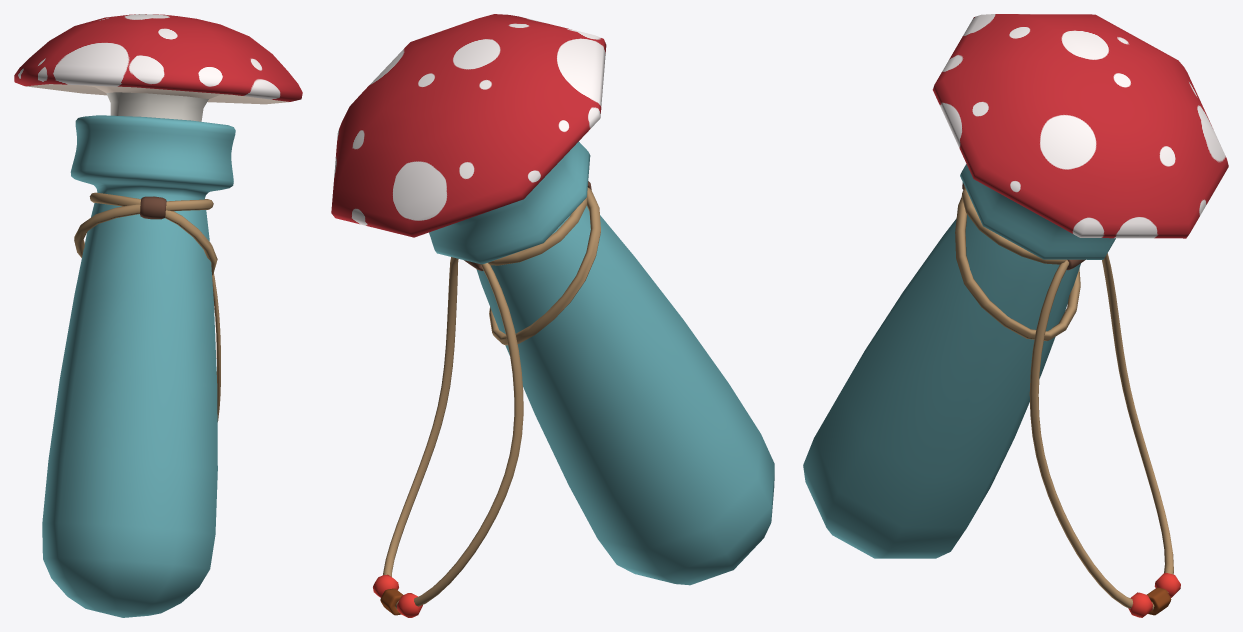
The model's file is pocao_de_invisibilidade.glb.
3 views of the same model, side by side, from view 1: azimuth 30°, elevation 25°; view 2: azimuth 150°, elevation 25°; view 3: azimuth 270°, elevation 25° (orthographic). The views are drawn at different scales.
Visible parts, largest first — view 1: Cube, Cube.007, Cube.002, Cube.001, Cube.008, BezierCircle, Cube.004; view 2: Cube, Cube.007, BezierCircle, Cube.002; view 3: Cube, Cube.007, BezierCircle, Cube.002.
Part boxes in pixels (box(x1,y1,x2,y2)): Cube: box(42, 115, 235, 617); Cube.007: box(14, 14, 302, 101); Cube.002: box(74, 192, 217, 275); Cube.001: box(106, 92, 208, 121); Cube.008: box(26, 84, 288, 104); BezierCircle: box(212, 273, 220, 421); Cube.004: box(140, 196, 166, 219); Cube: box(429, 141, 774, 585); Cube.007: box(331, 14, 606, 237); BezierCircle: box(383, 257, 523, 609); Cube.002: box(488, 187, 600, 345); Cube: box(803, 164, 1115, 558); Cube.007: box(932, 14, 1228, 238); BezierCircle: box(1029, 253, 1173, 610); Cube.002: box(955, 187, 1080, 340).
Bounding box in the file's own units: 2.31 × 3.77 × 2.53.
Materials: 10 (1 with a texture image).
